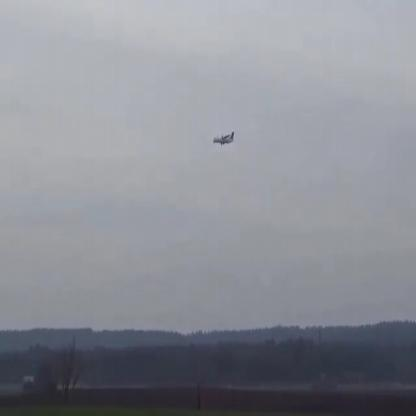CIV_Plane: (213, 132, 234, 146)
